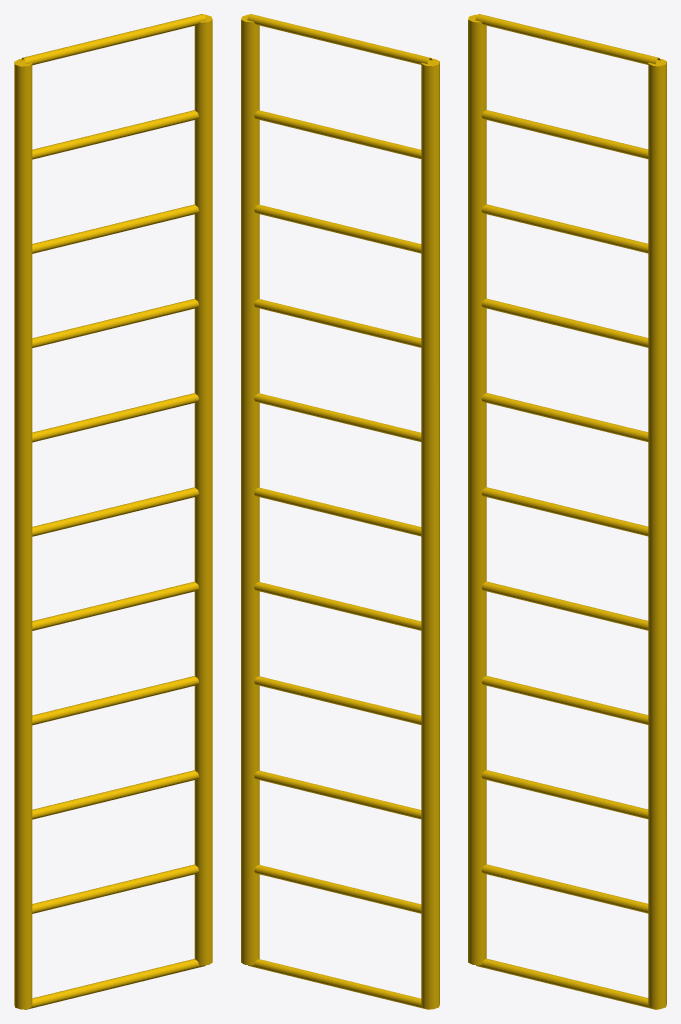
File: Yellow_Ladder_02.FBX
The picture shows the model from 3 angles, left to right: view 1: azimuth 30°, elevation 25°; view 2: azimuth 150°, elevation 25°; view 3: azimuth 330°, elevation 25°; orthographic projection.
Parts seen in each view (by area): view 1: Yellow_Ladder_02; view 2: Yellow_Ladder_02; view 3: Yellow_Ladder_02.
Boxes of the visible parts, left/top/right/bottom form: Yellow_Ladder_02: left=14, top=14, right=212, bottom=1009; Yellow_Ladder_02: left=241, top=14, right=439, bottom=1009; Yellow_Ladder_02: left=468, top=14, right=666, bottom=1009.
Size of the model in its own units: 1.09 by 5.05 by 0.091.
1 material, 1 textured.
